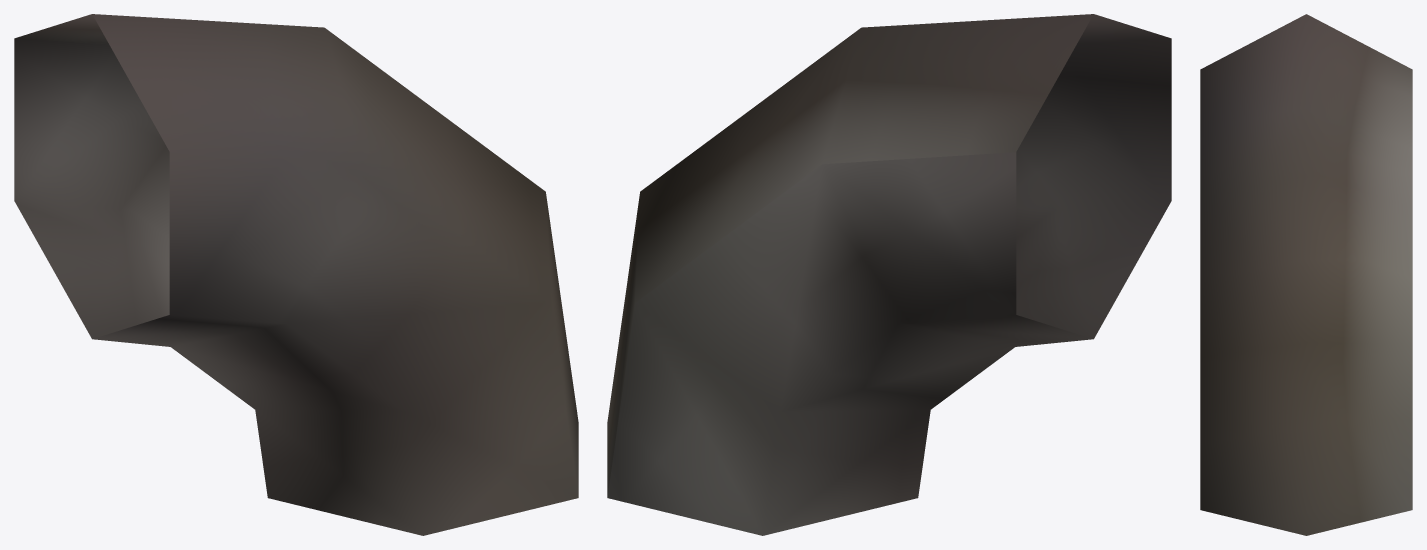
Rendered from ThinPipe_01.FBX.
The picture shows the model from 3 angles, left to right: view 1: azimuth 30°, elevation 25°; view 2: azimuth 150°, elevation 25°; view 3: azimuth 270°, elevation 25°; orthographic projection. The views are drawn at different scales.
Visible parts, largest first — view 1: ThinPipe_01; view 2: ThinPipe_01; view 3: ThinPipe_01.
Boxes of the visible parts, box(x1,y1,x2,y2) form: ThinPipe_01: box(14, 14, 578, 535); ThinPipe_01: box(607, 14, 1171, 535); ThinPipe_01: box(1200, 14, 1412, 535).
Size of the model in its own units: 14.27 by 14.77 by 7.9.
